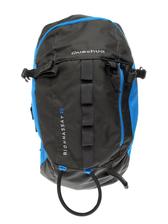bag: (21, 15, 147, 218)
